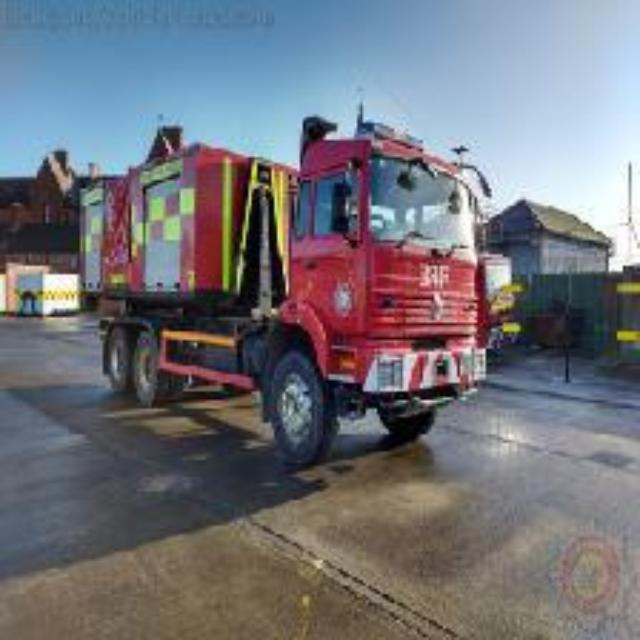emergency: (88, 129, 480, 451)
